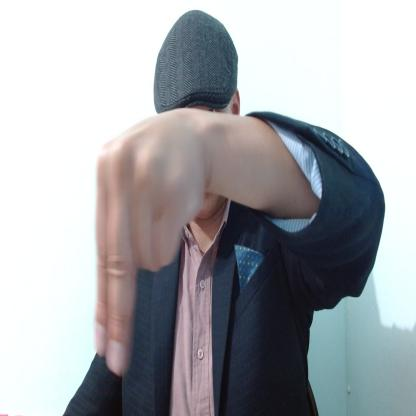N: (95, 107, 210, 376)
